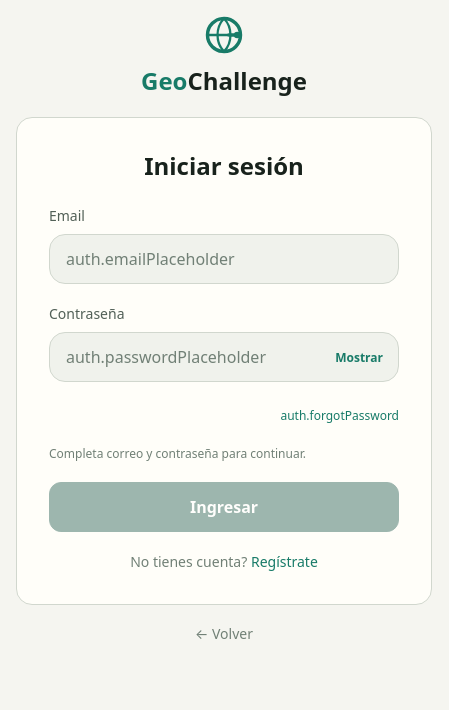
Test: LoginPage › muestra el tiempo de espera cuando backend responde rate limit en login
In the field labelled "Email": (224, 259) 49,234 -> 399,284, type "test@example.com"
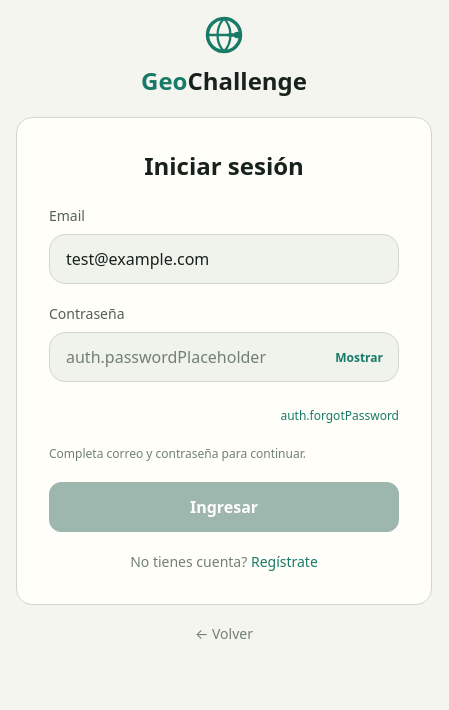
In the password field labelled "Contraseña": (224, 357) 49,332 -> 399,382, type "secret123"
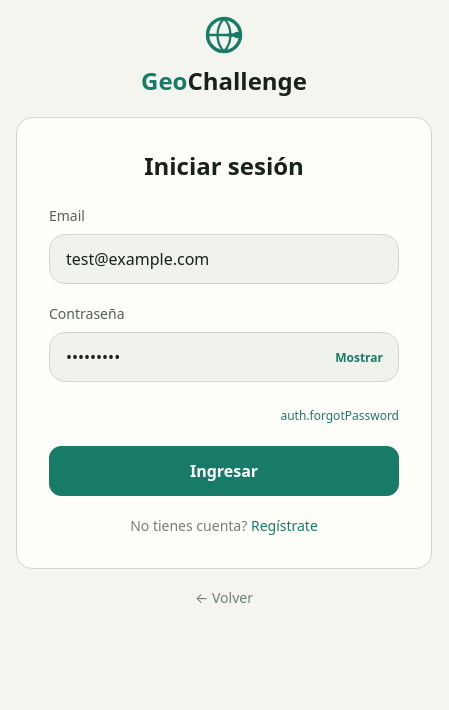
Click the button "Ingresar": (224, 471) 49,446 -> 399,496
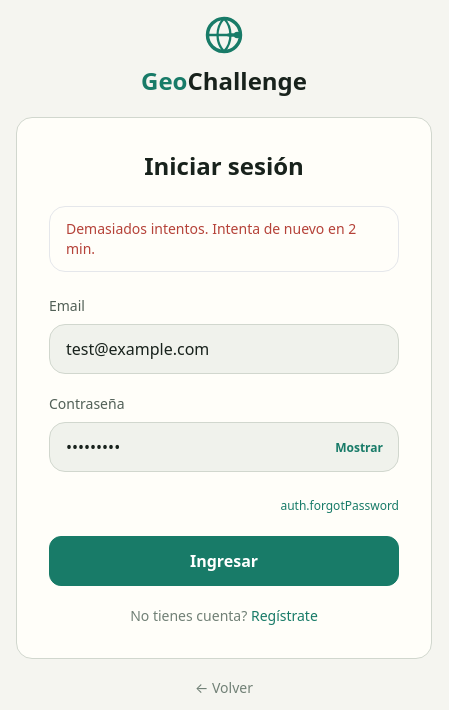
Result: the text "Demasiados intentos. Intenta de nuevo en 2 min." is shown at 66,219 -> 382,259
